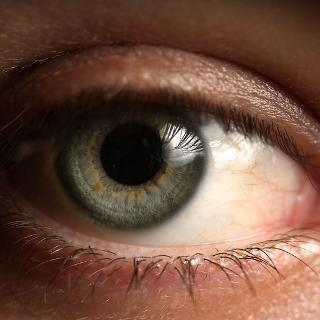iris: (51, 76, 206, 231)
